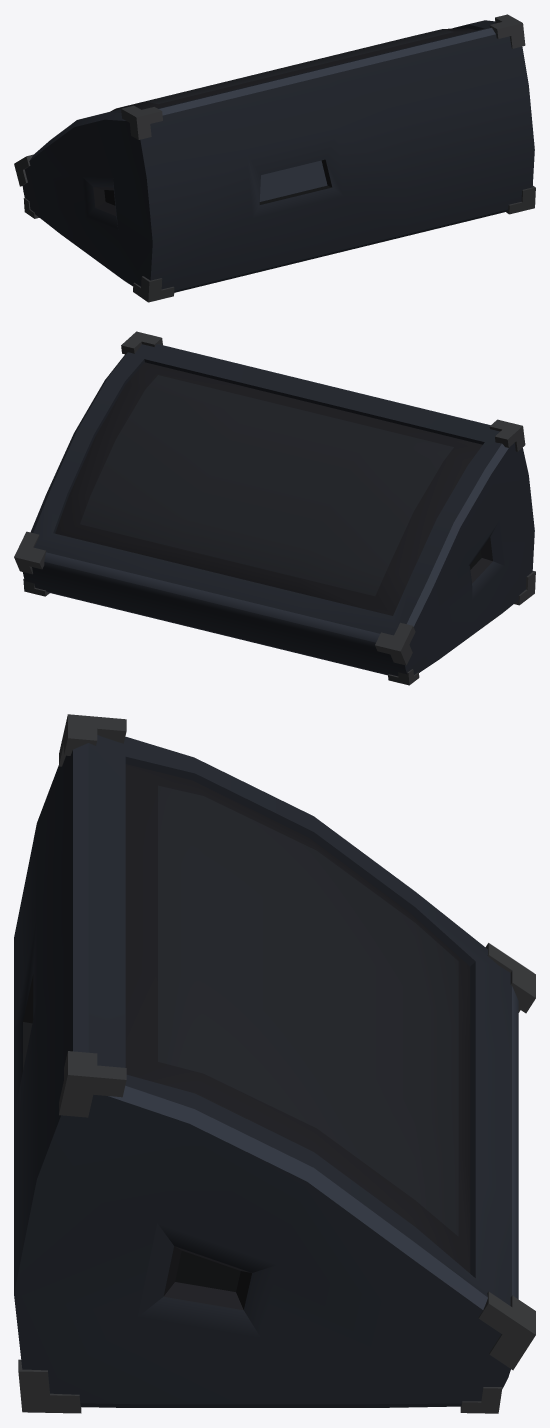
Rendered from FoldbackSpeaker.fbx.
3 renders of one model, top to bottom at view 1: azimuth 30°, elevation 25°; view 2: azimuth 150°, elevation 25°; view 3: azimuth 270°, elevation 25°, orthographic. The views are drawn at different scales.
Parts seen in each view (by area): view 1: speaker_main, corner3, corner2, corner5, corner4; view 2: speaker_main, corner, corner1, corner3, corner2; view 3: speaker_main, corner2, corner1, corner4, corner3, corner.
Part boxes in pixels (bbox=[...]): speaker_main: bbox=[22, 20, 534, 292]; corner3: bbox=[121, 105, 162, 139]; corner2: bbox=[489, 14, 525, 48]; corner5: bbox=[133, 276, 174, 302]; corner4: bbox=[506, 185, 535, 214]; speaker_main: bbox=[23, 344, 534, 676]; corner: bbox=[375, 622, 415, 665]; corner1: bbox=[14, 531, 46, 574]; corner3: bbox=[489, 419, 525, 451]; corner2: bbox=[121, 331, 162, 354]; speaker_main: bbox=[14, 735, 518, 1407]; corner2: bbox=[59, 1051, 126, 1117]; corner1: bbox=[478, 1291, 535, 1370]; corner4: bbox=[18, 1359, 81, 1413]; corner3: bbox=[59, 714, 126, 766]; corner: bbox=[485, 943, 535, 1013].
Bounding box in the file's own units: 64.47 × 28.28 × 39.43.
Materials: 1 (1 with a texture image).
